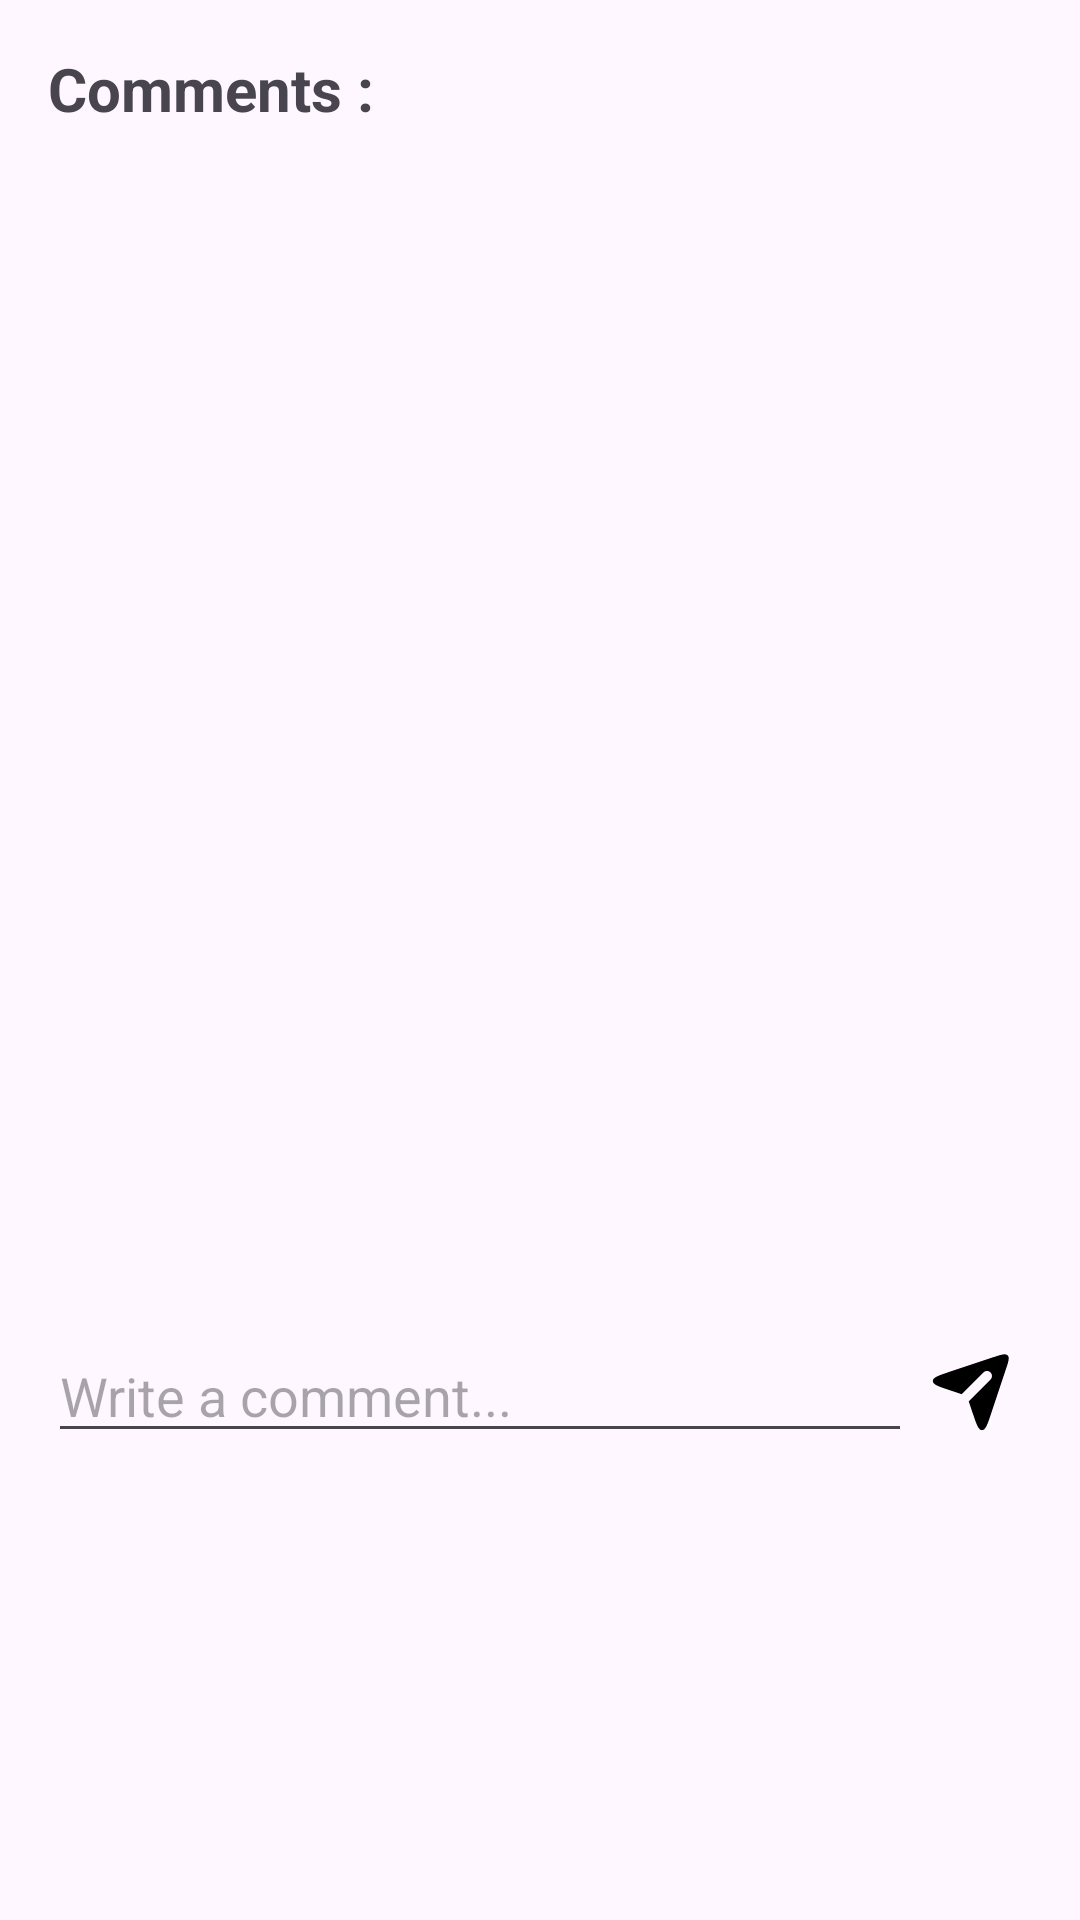

Icons on this 1080×1920 Android screen, each with the point to tap as [x,y]:
Send: [971,1392]
